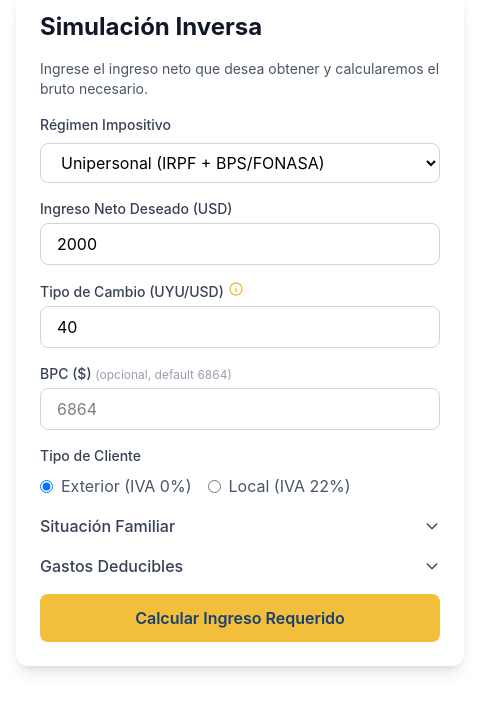
Test: ReverseSim — Validation › should show validation error when target net is empty
The image size is (481, 707).
# Clear the target input
Clear the field with placeholder "2000" below "Ingreso Neto Deseado (". click: (240,244)
box: [40, 223, 440, 265]
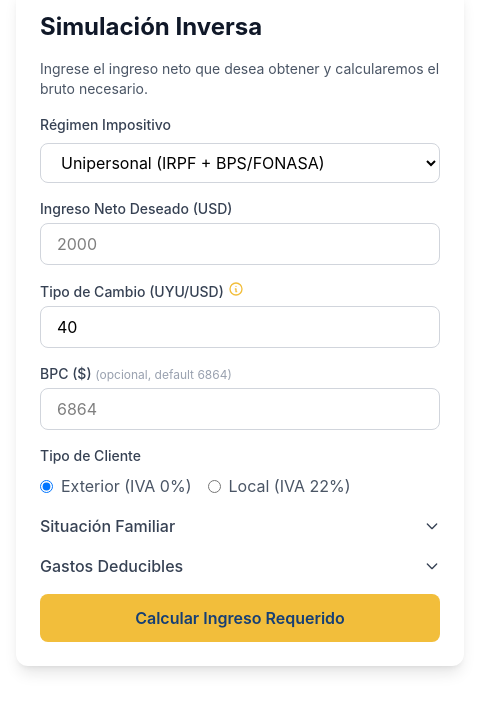
Click the button "Calcular Ingreso Requerido". click: (240,618)
box: [40, 594, 440, 642]
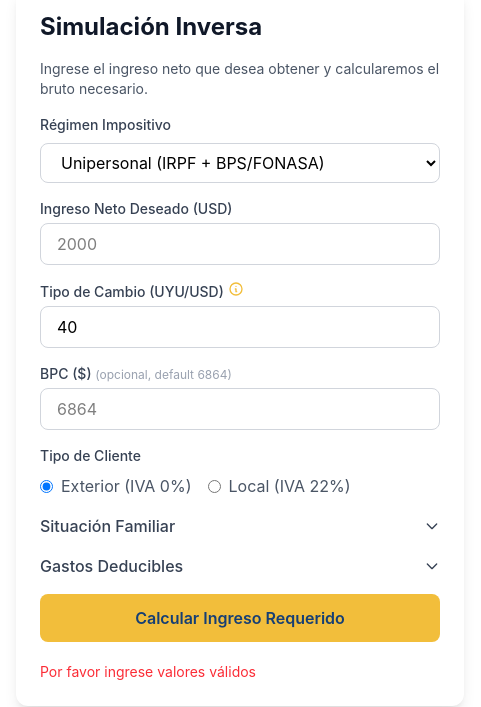
Expected: the text "Por favor ingrese valores válidos" is shown, [40, 663, 256, 680]
